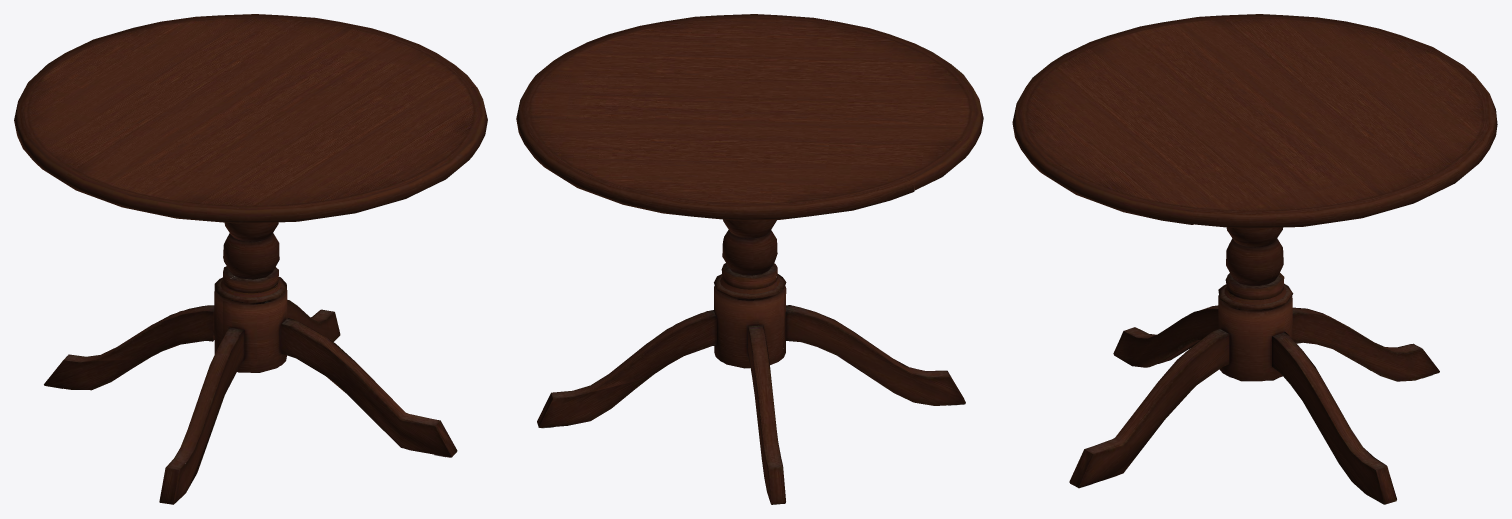
The model's file is round_wooden_table_01.glb.
3 views of the same model, side by side, from view 1: azimuth 30°, elevation 25°; view 2: azimuth 150°, elevation 25°; view 3: azimuth 270°, elevation 25° (orthographic). The views are drawn at different scales.
Parts seen in each view (by area): view 1: round_wooden_table_01; view 2: round_wooden_table_01; view 3: round_wooden_table_01.
Boxes of the visible parts, bbox=[...] form: round_wooden_table_01: bbox=[14, 14, 487, 504]; round_wooden_table_01: bbox=[516, 14, 983, 504]; round_wooden_table_01: bbox=[1012, 14, 1497, 504].
Bounding box in the file's own units: 1.4 × 1 × 1.4.
1 material, 1 textured.
